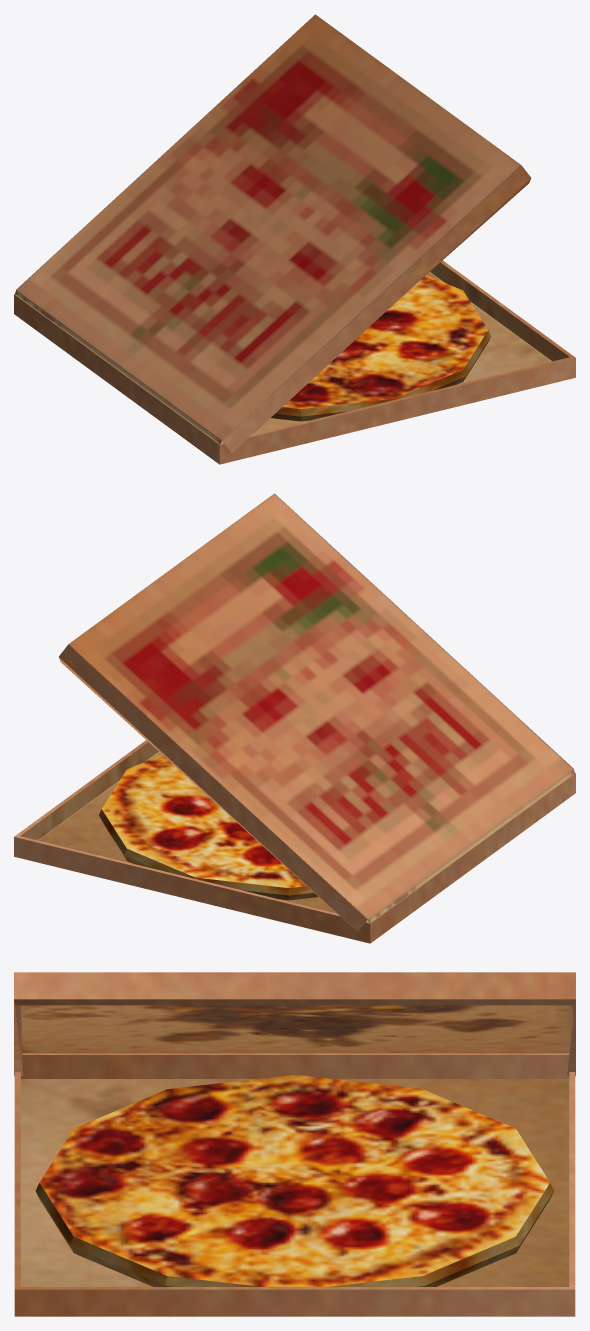
The model's file is pizza_box_semi_close_with_pizza.glb.
The picture shows the model from 3 angles, top to bottom: view 1: azimuth 30°, elevation 25°; view 2: azimuth 150°, elevation 25°; view 3: azimuth 270°, elevation 25°; orthographic projection. The views are drawn at different scales.
Visible parts, largest first — view 1: pizza box semi close with pizza; view 2: pizza box semi close with pizza; view 3: pizza box semi close with pizza.
Part boxes in pixels (left/top/right/bottom): pizza box semi close with pizza: left=14, top=14, right=575, bottom=464; pizza box semi close with pizza: left=14, top=493, right=575, bottom=943; pizza box semi close with pizza: left=14, top=972, right=575, bottom=1316.
Size of the model in its own units: 0.5276 by 0.3198 by 0.5286.
2 materials, 2 textured.
